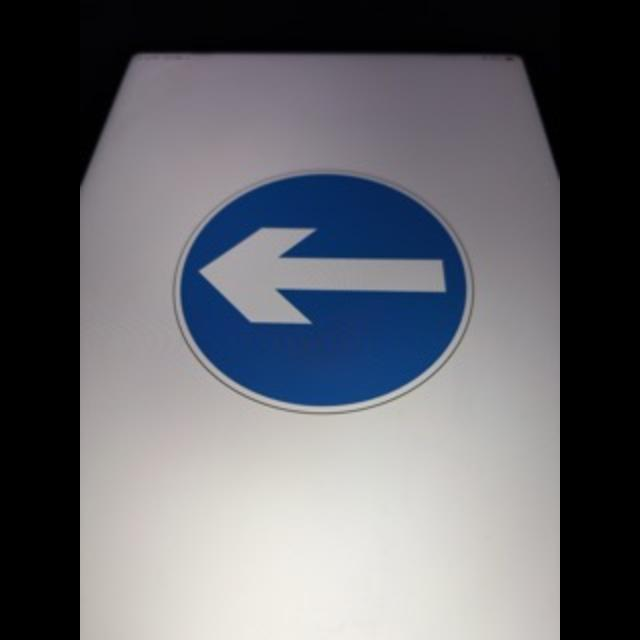TURN LEFT: (173, 168, 474, 414)
